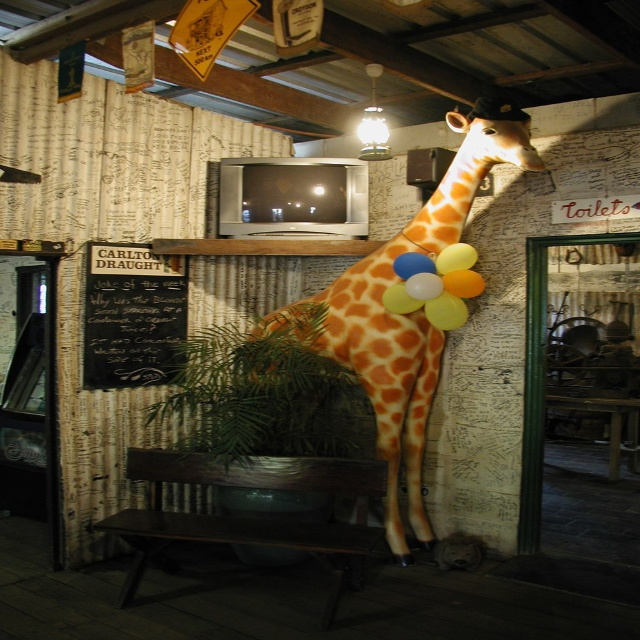Giraffe: (235, 95, 559, 543)
